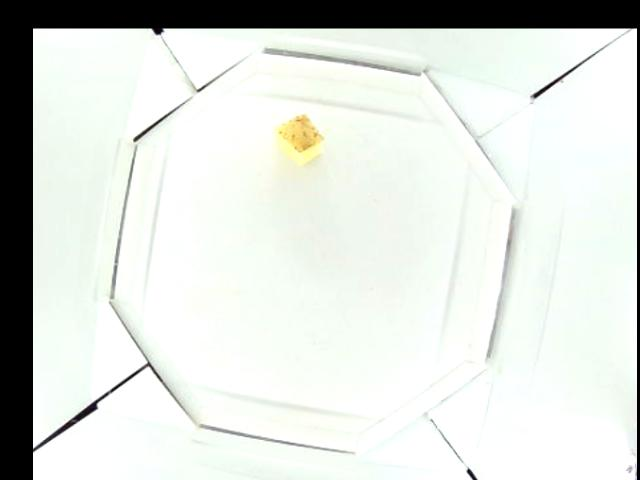Potato: (276, 114, 326, 156)
